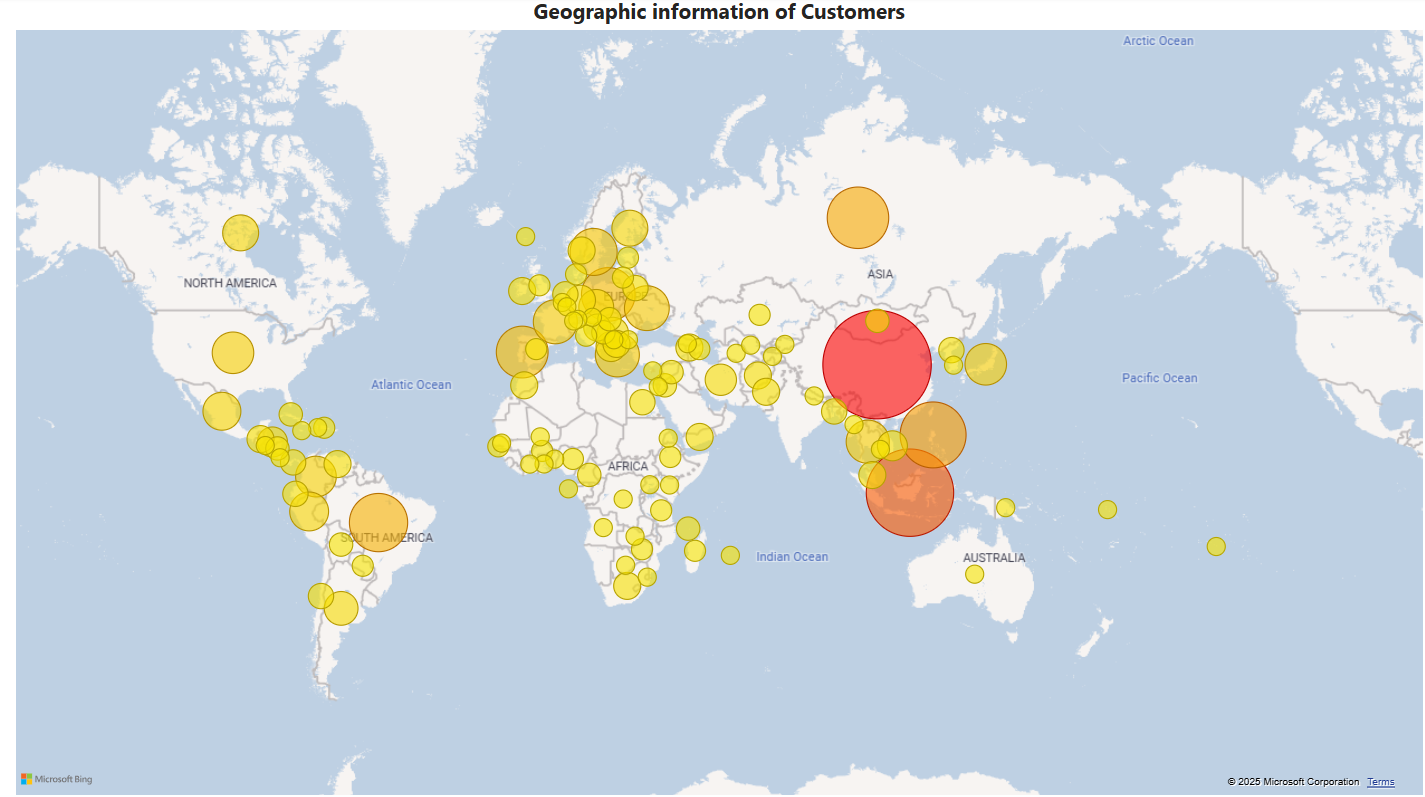

What the dashboard file says about the page in this screenshot:
{"tool":"powerbi","page":{"name":"Country","canvas":[1280,720],"ordinal":4},"visuals":[{"type":"map","title":"Geographic information of Customers","fields":{"Category":["Customer_Campaign_Sales.COUNTRY","Customer_Campaign_Sales.STREET_ADDRESS"],"Size":["CountNonNull(Customer_Campaign_Sales.Campaign Customer)"],"X":["Min(Customer_Campaign_Sales.STREET_ADDRESS)"]},"box":[10,0,1270,720],"z":0}]}

Visuals, with their boxes in screenshot pixels (x1, y1, x2, y2), scaled from the page's 1280x720 canvas onto the 1425x797 screenshot:
"Geographic information of Customers" map: 11, 0, 1424, 796
